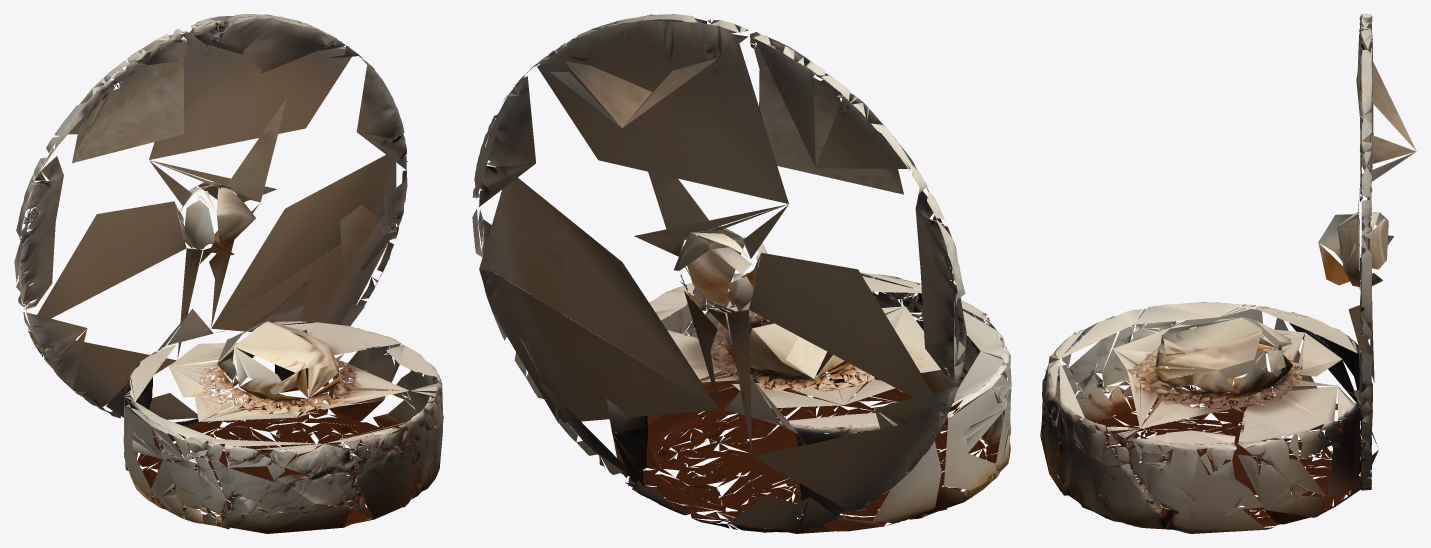
Rendered from wheel.glb.
The picture shows the model from 3 angles, left to right: view 1: azimuth 30°, elevation 25°; view 2: azimuth 150°, elevation 25°; view 3: azimuth 270°, elevation 25°; orthographic projection. The views are drawn at different scales.
Parts seen in each view (by area): view 1: model; view 2: model; view 3: model.
Part boxes in pixels (<box>): model: <box>14,14,443,533</box>; model: <box>472,14,1011,533</box>; model: <box>1040,14,1416,533</box>.
Size of the model in its own units: 0.3563 by 0.3493 by 0.2753.
Materials: 1 (1 with a texture image).
